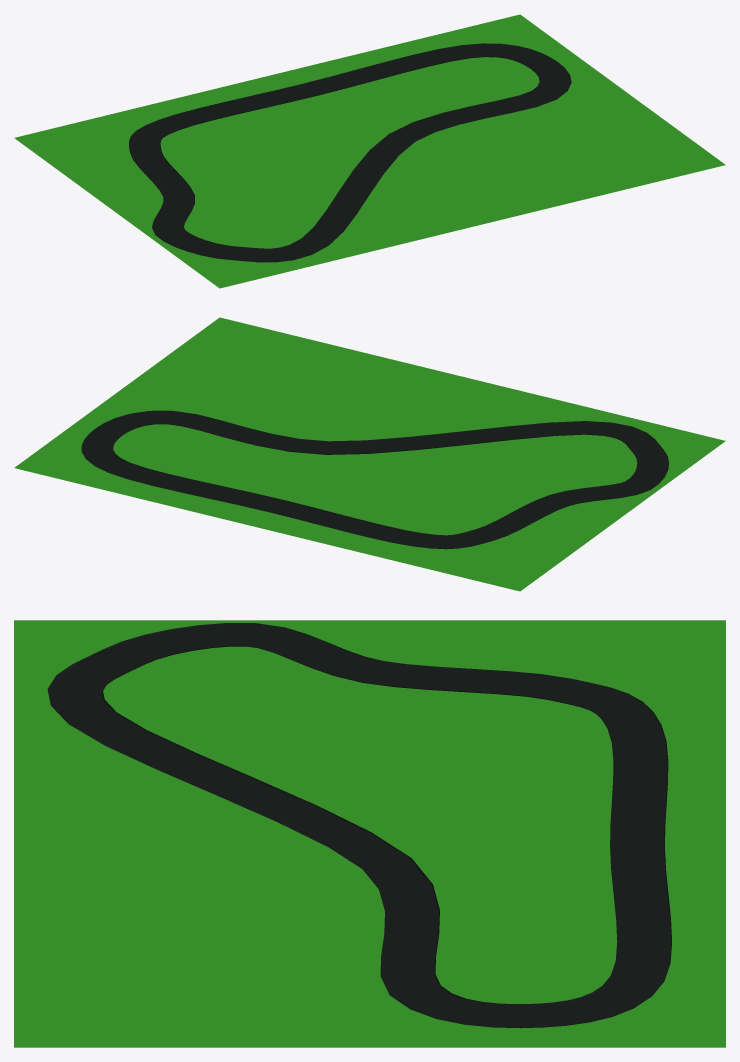
Rendered from circuitfinal.DAE.
3 views of the same model, one above another, from view 1: azimuth 30°, elevation 25°; view 2: azimuth 150°, elevation 25°; view 3: azimuth 270°, elevation 25° (orthographic). The views are drawn at different scales.
Visible parts, largest first — view 1: Plan001, Extrusion001; view 2: Plan001, Extrusion001; view 3: Plan001, Extrusion001.
Part boxes in pixels (box(x1,y1,x2,y2)): Plan001: box(14, 14, 725, 288); Extrusion001: box(129, 43, 571, 262); Plan001: box(14, 317, 725, 591); Extrusion001: box(81, 410, 668, 549); Plan001: box(14, 620, 725, 1047); Extrusion001: box(47, 623, 671, 1028).
Bounding box in the file's own units: 64 × 2.86 × 45.06.
